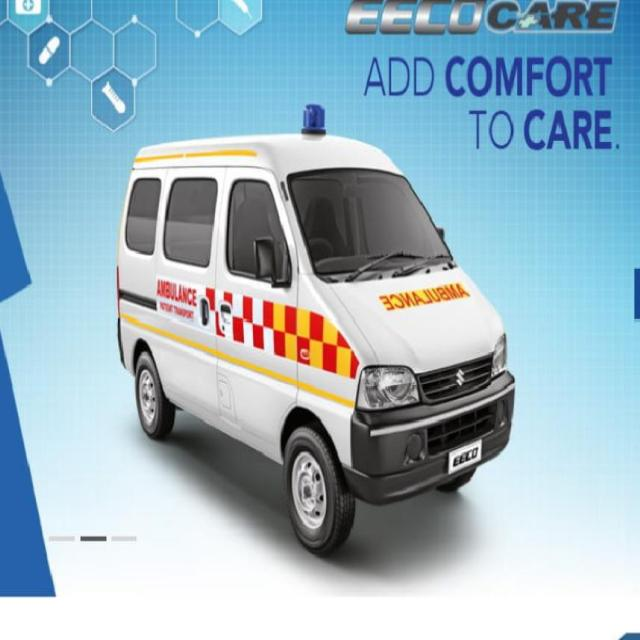ambulance: (112, 133, 523, 550)
